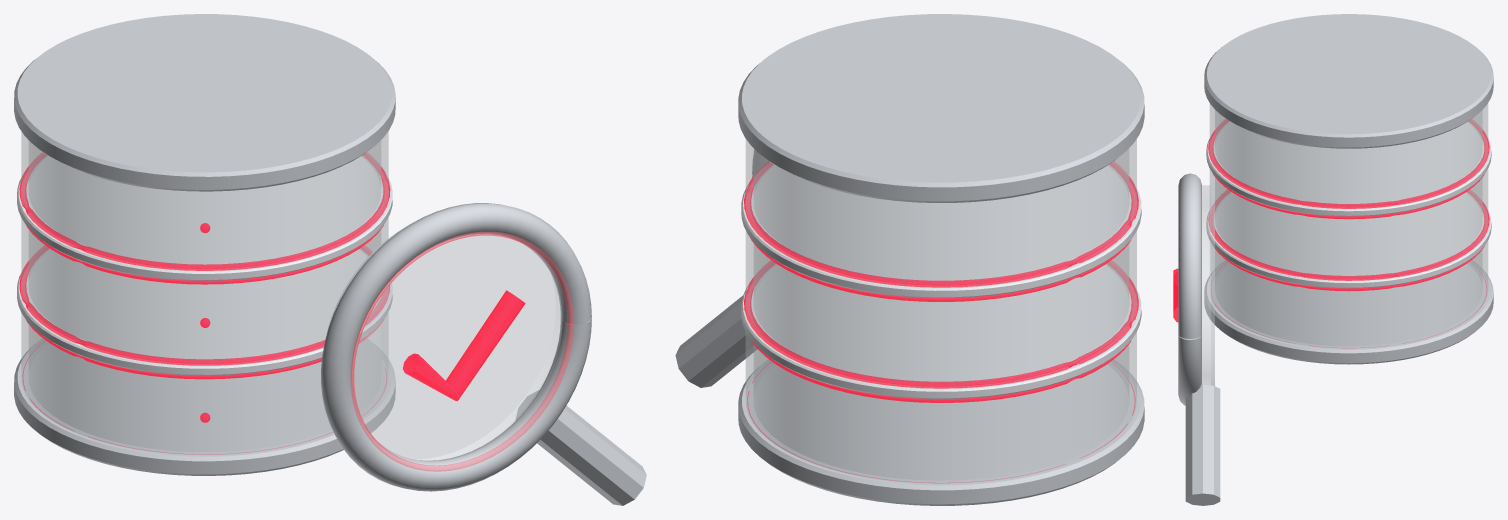
File: 04-data-quality.glb
3 views of the same model, side by side, from view 1: azimuth 30°, elevation 25°; view 2: azimuth 150°, elevation 25°; view 3: azimuth 270°, elevation 25° (orthographic). The views are drawn at different scales.
Visible parts, largest first — view 1: BC satin silver metal, BC clear optical glass, BC polished silver metal, BC neon red glass edge, BC ruby optical glass; view 2: BC satin silver metal, BC clear optical glass, BC polished silver metal, BC neon red glass edge; view 3: BC satin silver metal, BC clear optical glass, BC polished silver metal, BC neon red glass edge.
Part boxes in pixels (<box>): BC satin silver metal: <box>14,14,646,505</box>; BC clear optical glass: <box>21,131,562,461</box>; BC polished silver metal: <box>17,155,392,375</box>; BC neon red glass edge: <box>19,152,525,454</box>; BC ruby optical glass: <box>351,232,573,471</box>; BC satin silver metal: <box>675,14,1144,505</box>; BC clear optical glass: <box>745,139,1136,483</box>; BC polished silver metal: <box>741,165,1141,398</box>; BC neon red glass edge: <box>744,161,1138,483</box>; BC satin silver metal: <box>1178,14,1493,505</box>; BC clear optical glass: <box>1202,103,1488,385</box>; BC polished silver metal: <box>1206,121,1491,288</box>; BC neon red glass edge: <box>1173,119,1489,348</box>.
Size of the model in its own units: 2.07 by 1.63 by 1.49.
